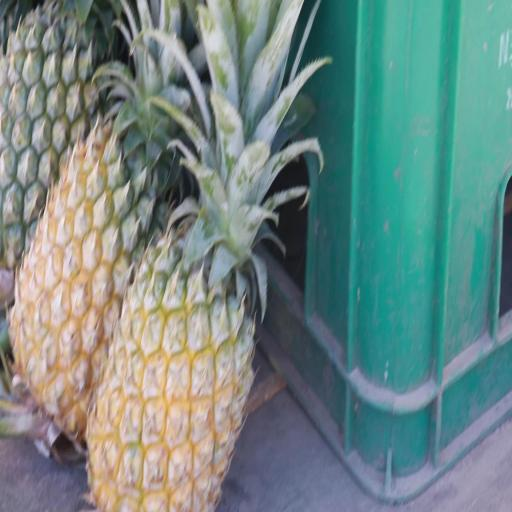Pineapple - v8 v1: (6, 0, 160, 445), (84, 121, 256, 507)
